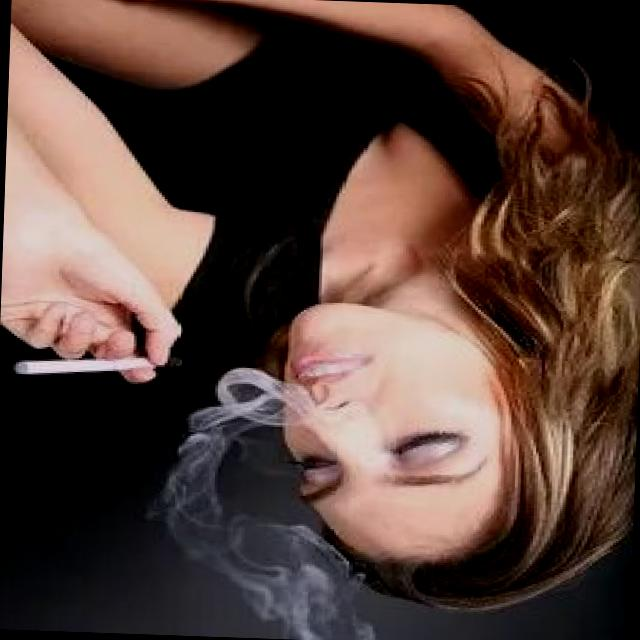cigarette: (4, 347, 190, 383)
